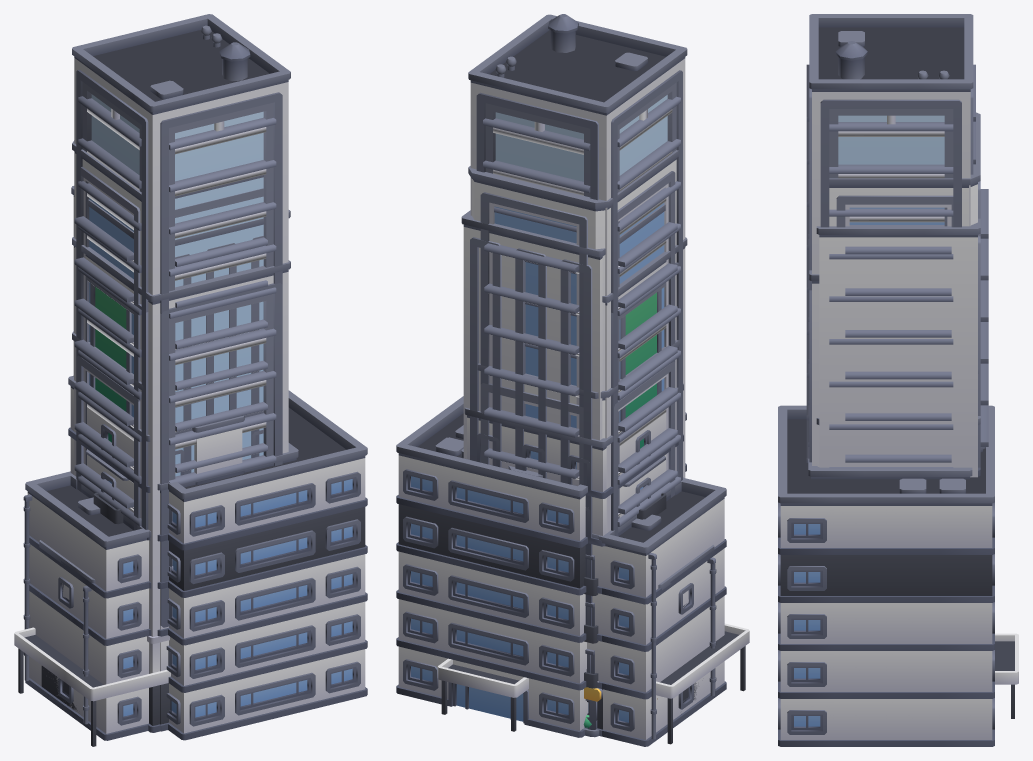
The model's file is kit-buildings.glb.
The picture shows the model from 3 angles, left to right: view 1: azimuth 30°, elevation 25°; view 2: azimuth 150°, elevation 25°; view 3: azimuth 270°, elevation 25°; orthographic projection.
Visible parts, largest first — view 1: building-n, building-skyscraper-d, building-j, building-skyscraper-c, building-skyscraper-b, building-skyscraper-e, building-skyscraper-a, building-k, building-m, building-l; view 2: building-n, building-skyscraper-d, building-skyscraper-b, building-j, building-skyscraper-e, building-m, building-skyscraper-a, building-skyscraper-c, building-k, building-i; view 3: building-n, building-skyscraper-d, building-skyscraper-e, building-skyscraper-b, building-skyscraper-c, building-l, building-skyscraper-a.
Boxes of the visible parts, x1,y1,x2,y2 form: building-n: (14,390,367,746); building-skyscraper-d: (72,14,290,731); building-j: (23,471,149,740); building-skyscraper-c: (72,237,290,732); building-skyscraper-b: (72,140,267,518); building-skyscraper-e: (71,186,290,480); building-skyscraper-a: (72,331,267,530); building-k: (39,540,95,728); building-m: (68,375,263,629); building-l: (93,443,298,731); building-n: (396,396,749,744); building-skyscraper-d: (468,14,687,530); building-skyscraper-b: (468,150,678,730); building-j: (583,478,726,746); building-skyscraper-e: (461,204,665,729); building-m: (464,383,683,736); building-skyscraper-a: (477,339,680,729); building-skyscraper-c: (525,237,687,532); building-k: (657,545,716,735); building-i: (584,477,684,729); building-n: (778,405,1018,746); building-skyscraper-d: (806,14,975,467); building-skyscraper-e: (816,218,980,477); building-skyscraper-b: (808,112,988,462); building-skyscraper-c: (806,270,953,468); building-l: (808,447,985,479); building-skyscraper-a: (808,368,988,457).
Size of the model in its own units: 2.32 by 5.47 by 1.82.
1 material, 1 textured.
